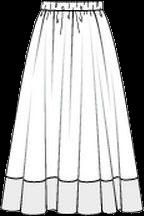Hemline: (0, 207, 143, 215)
Waistline: (40, 7, 103, 11), (40, 0, 102, 4)
